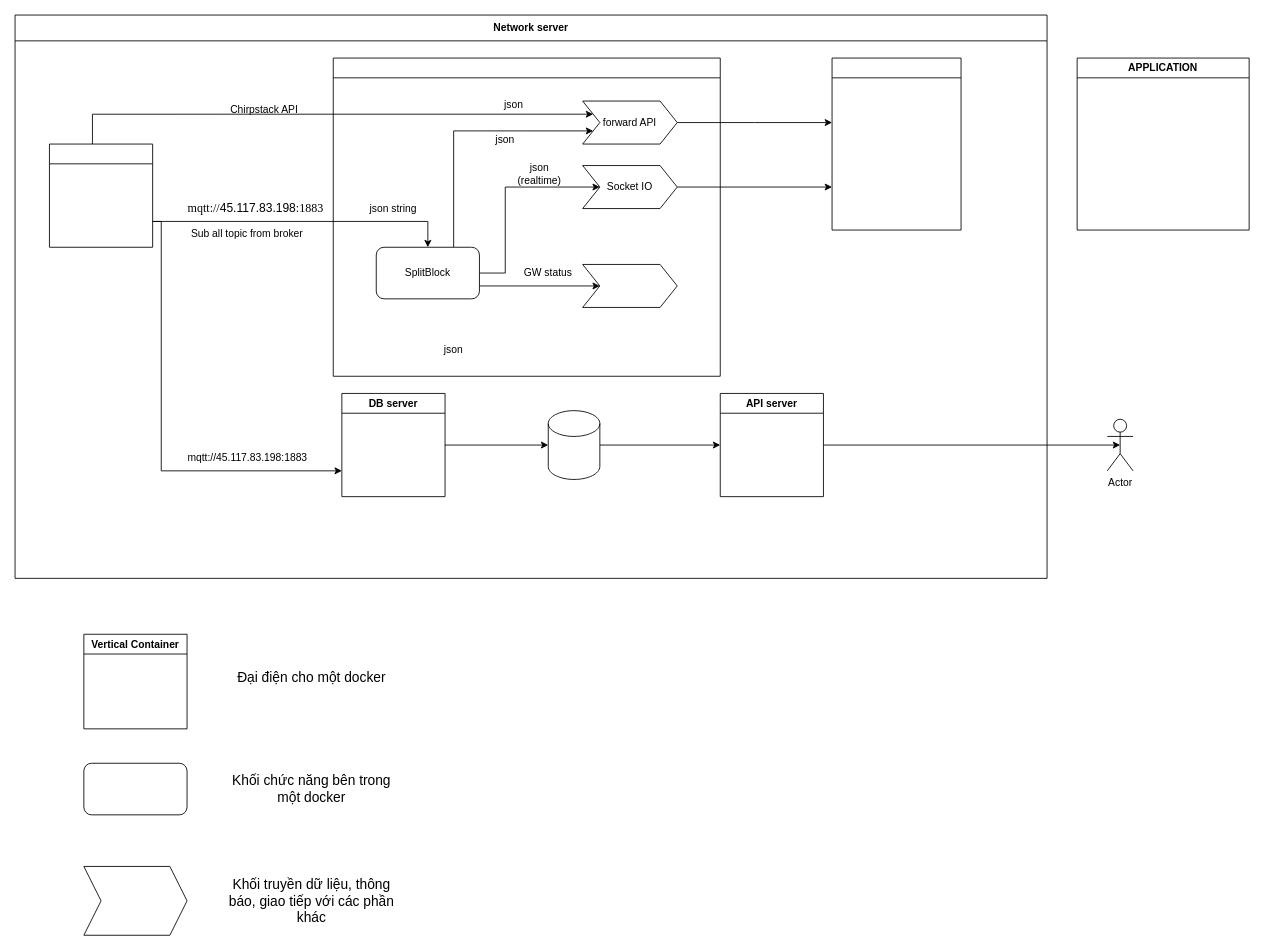
This 1264x950 diagram has some shape labels left out. The box of each missing label's shape, as (x1, y1, x2, y2) in pixels:
Chirpstack Core: (49, 143, 153, 247)
DB: (547, 410, 600, 479)
NodeJS Server: (332, 57, 720, 376)
ReactJS Client: (831, 57, 961, 230)
Send Mail: (582, 264, 677, 307)
